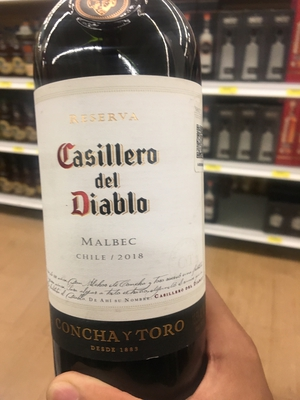casillero del diablo malbec: (25, 4, 224, 400)
